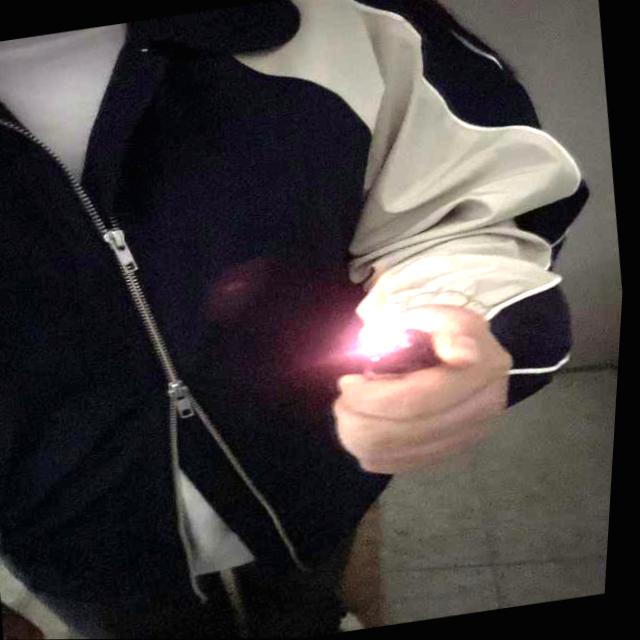Fire: (362, 280, 401, 344)
